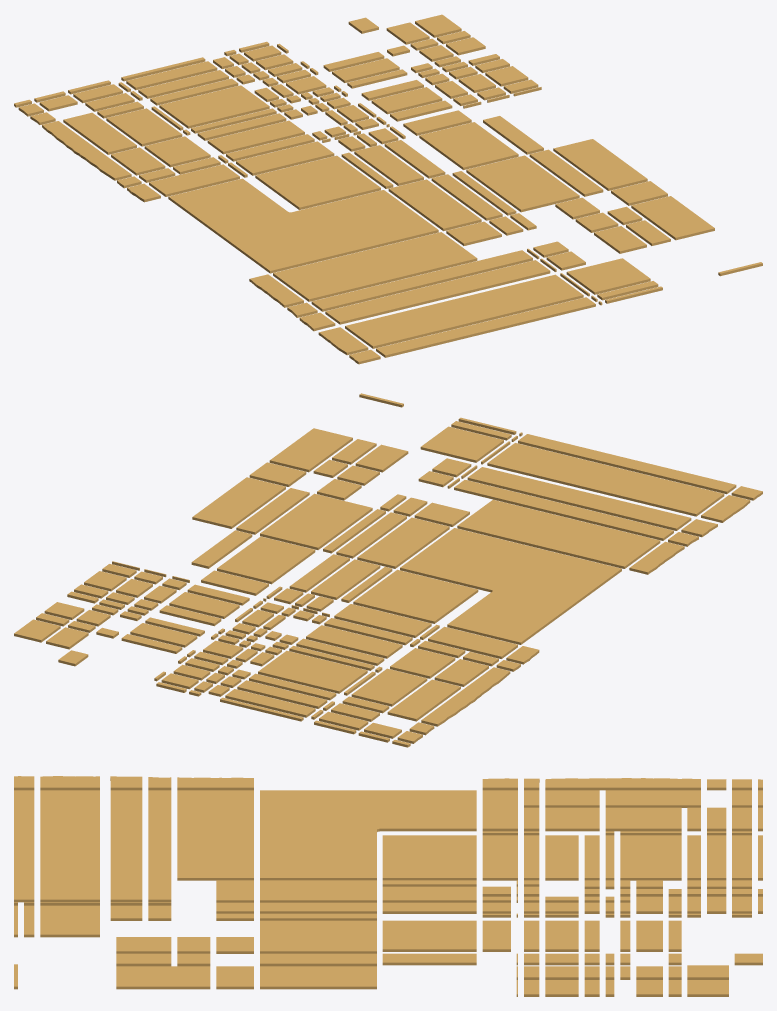
The model's file is blocks.glb.
The picture shows the model from 3 angles, top to bottom: view 1: azimuth 30°, elevation 25°; view 2: azimuth 150°, elevation 25°; view 3: azimuth 270°, elevation 25°; orthographic projection. The views are drawn at different scales.
Visible parts, largest first — view 1: world; view 2: world; view 3: world.
Part boxes in pixels (x1,y1,x2,y2): world: (14, 14, 762, 364); world: (14, 393, 762, 747); world: (14, 776, 762, 996).
Size of the model in its own units: 174 by 1 by 253.
